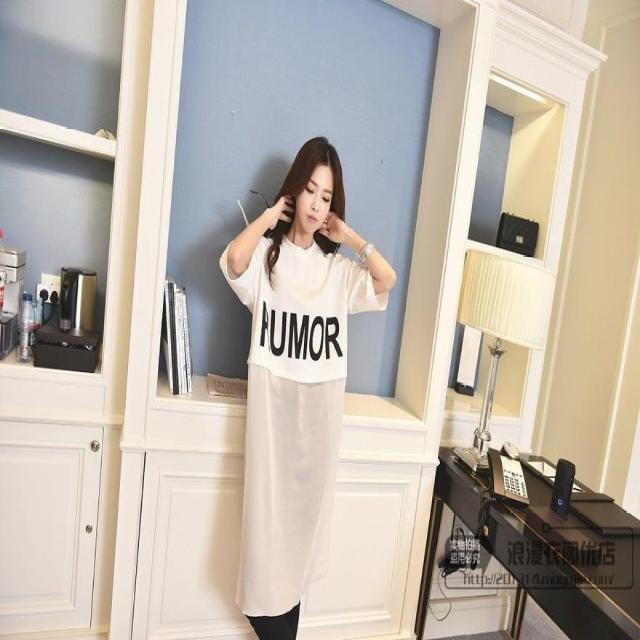short-sleeve-top: (228, 187, 386, 614)
